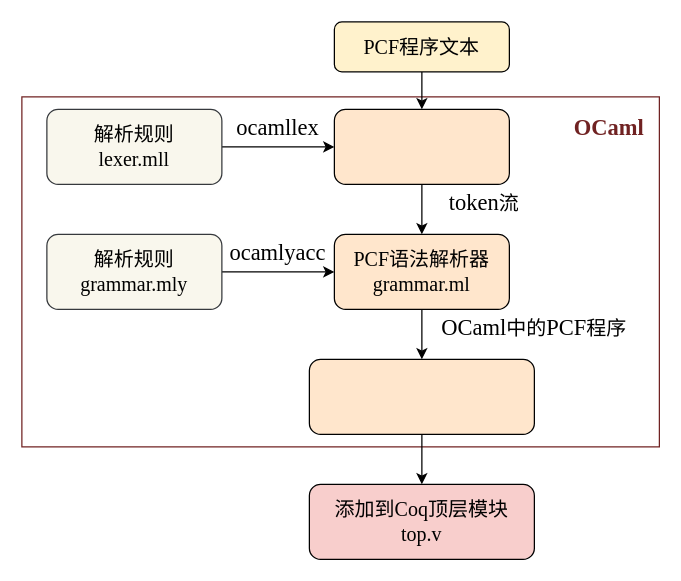
Some shapes in this 681 by 581 pixel diagram are drawn without their labels. Here are the shapes that lost their labels. From the top down, the centre of each, then its label:
At point 421,146: "PCF 词法解析器 lexer.ml".
At point 421,396: "打印Coq中的PCF程序 printer.ml".
